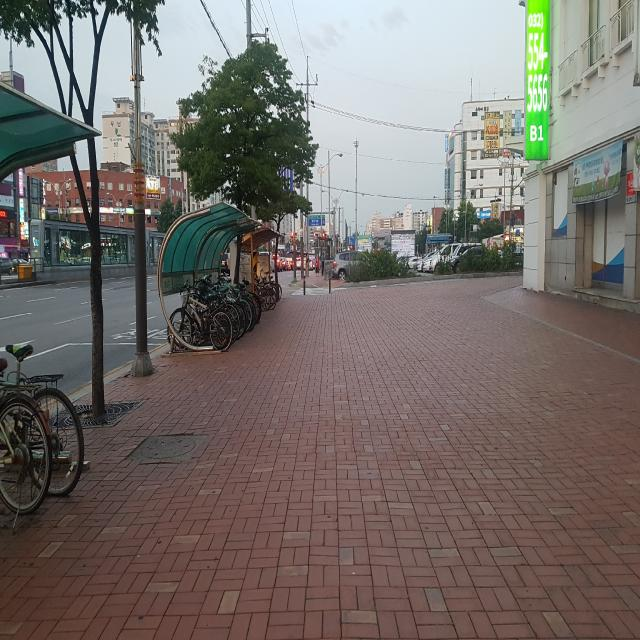횡단보도: (291, 288, 347, 295)
